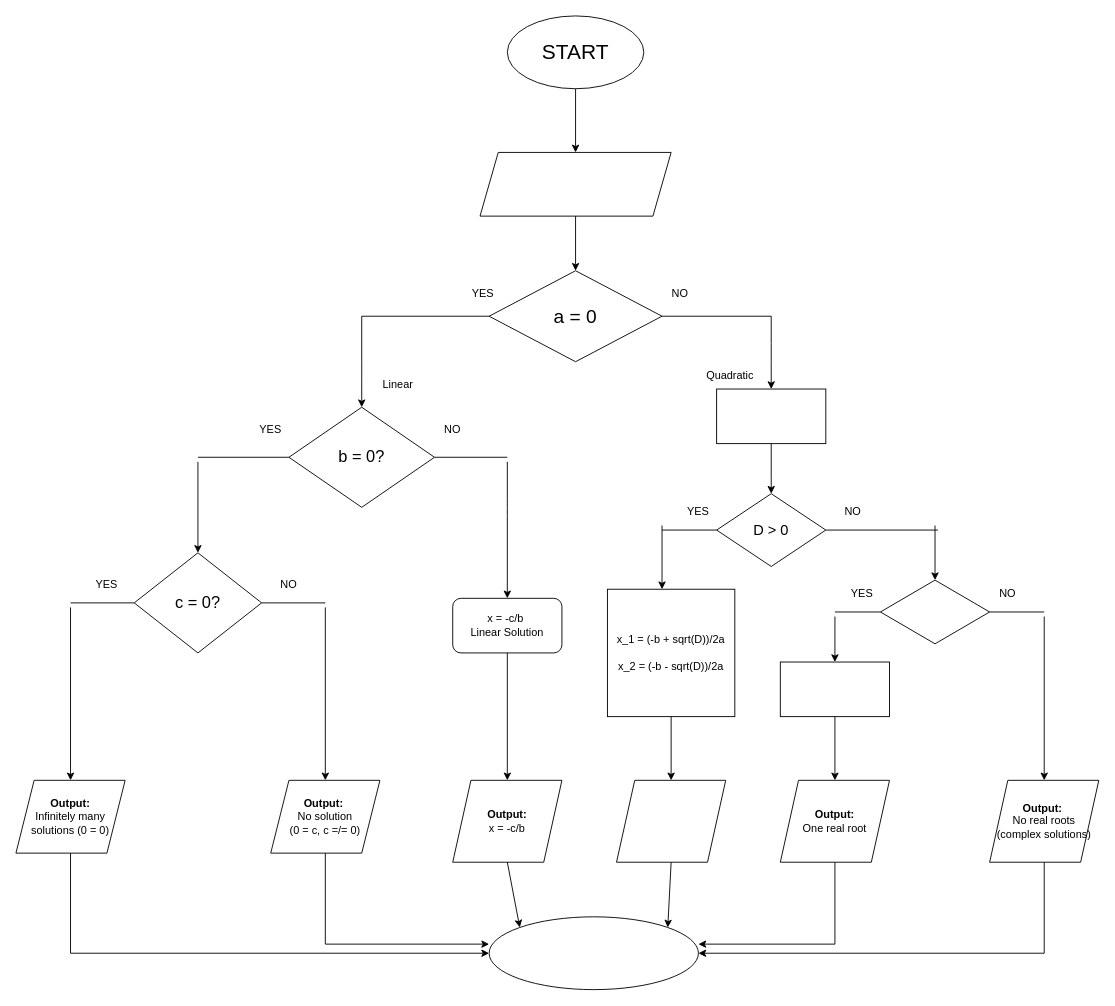
Some shapes in this 1115 by 1006 pixel diagram are drawn without their labels. Each missing label, with the centre of its shape:
D = 0?: (935,611)
D = b*b - 4*a*c: (771,416)
END: (593,953)
Input a,b, c: (575,184)
Output: 2 real roots x_1 and x_2: (671,820)
x = -b/2a: (834,689)
